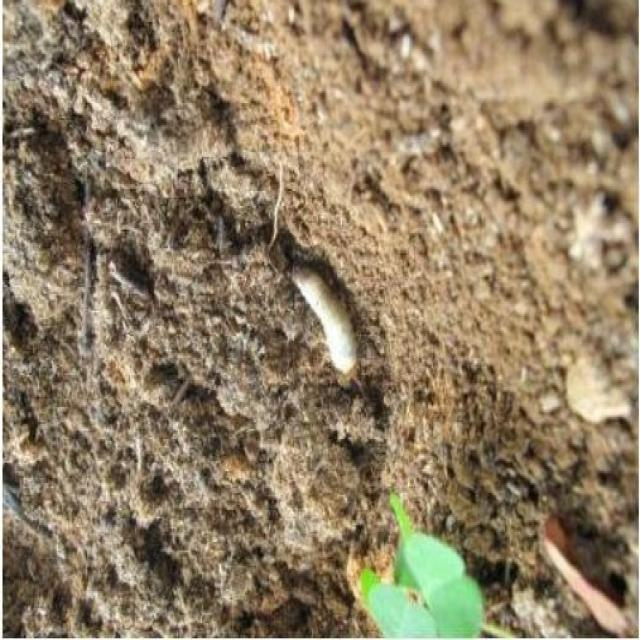grub: (286, 267, 368, 387)
